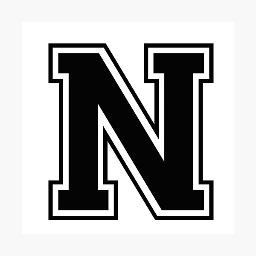n: (38, 26, 228, 230)
